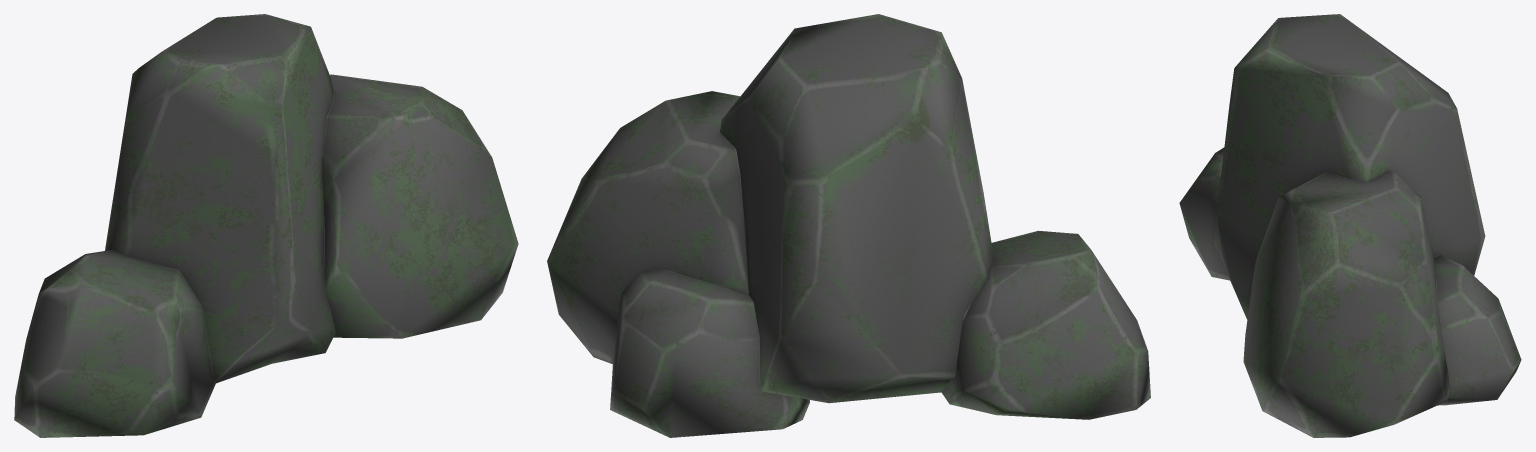
File: low_poly_mossy_rocks.glb
3 views of the same model, side by side, from view 1: azimuth 30°, elevation 25°; view 2: azimuth 150°, elevation 25°; view 3: azimuth 270°, elevation 25° (orthographic). The views are drawn at different scales.
Visible parts, largest first — view 1: PolySphere1, PolySphere, PolySphere2; view 2: PolySphere1, PolySphere, PolySphere2, PolySphere1_1; view 3: PolySphere, PolySphere1, PolySphere1_1, PolySphere2.
Boxes of the visible parts, bbox=[...] form: PolySphere1: bbox=[105, 14, 335, 383]; PolySphere: bbox=[322, 74, 518, 338]; PolySphere2: bbox=[14, 250, 215, 437]; PolySphere1: bbox=[720, 14, 994, 403]; PolySphere: bbox=[547, 91, 748, 364]; PolySphere2: bbox=[941, 230, 1150, 419]; PolySphere1_1: bbox=[610, 270, 809, 437]; PolySphere: bbox=[1243, 171, 1449, 437]; PolySphere1: bbox=[1214, 14, 1485, 319]; PolySphere1_1: bbox=[1433, 255, 1521, 405]; PolySphere2: bbox=[1179, 147, 1229, 280].
Bounding box in the file's own units: 2 × 1.25 × 1.31.
Materials: 1 (1 with a texture image).
